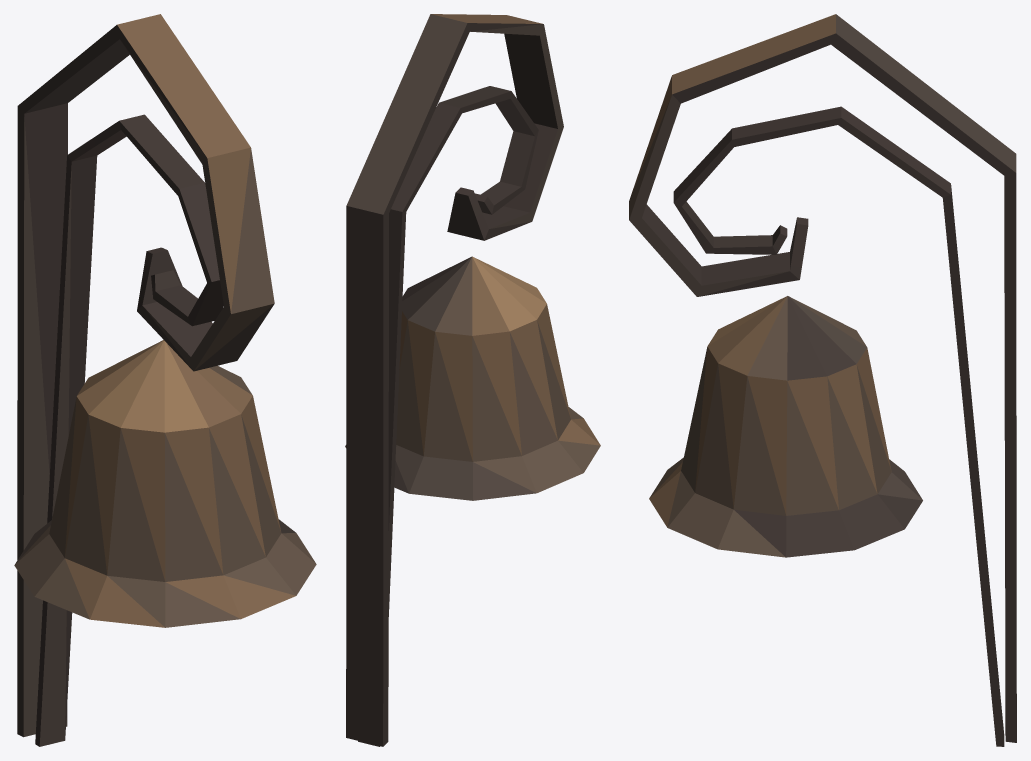
File: doorbell.fbx
3 views of the same model, side by side, from view 1: azimuth 30°, elevation 25°; view 2: azimuth 150°, elevation 25°; view 3: azimuth 270°, elevation 25° (orthographic). The views are drawn at different scales.
Visible parts, largest first — view 1: doorbell; view 2: doorbell; view 3: doorbell.
Part boxes in pixels (<box>): doorbell: <box>14,14,316,746</box>; doorbell: <box>345,14,600,746</box>; doorbell: <box>629,14,1016,746</box>.
Bounding box in the file's own units: 12.86 × 37.08 × 18.18.
